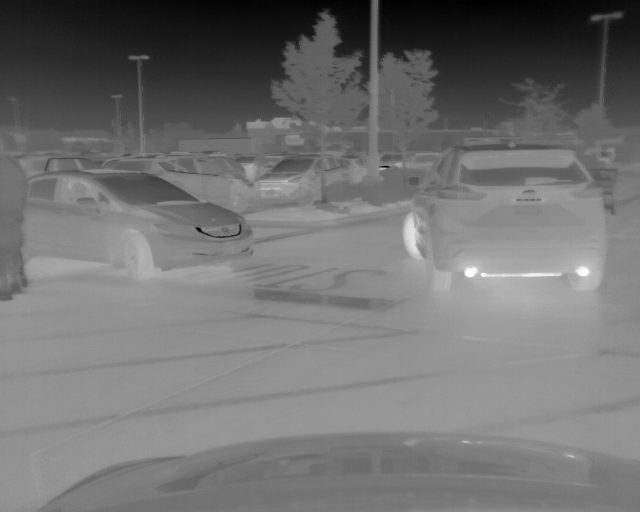car: (403, 141, 608, 298), (31, 178, 254, 275), (108, 154, 251, 215), (253, 154, 365, 206), (400, 149, 442, 174), (378, 149, 408, 171)
people: (1, 151, 29, 300)
